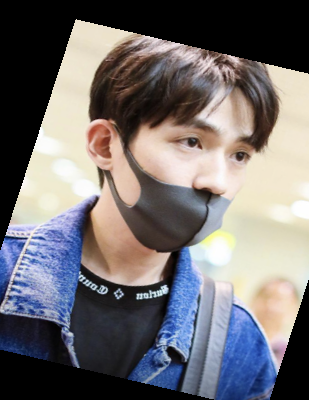mask_weared_incorrect: (84, 26, 289, 274)
